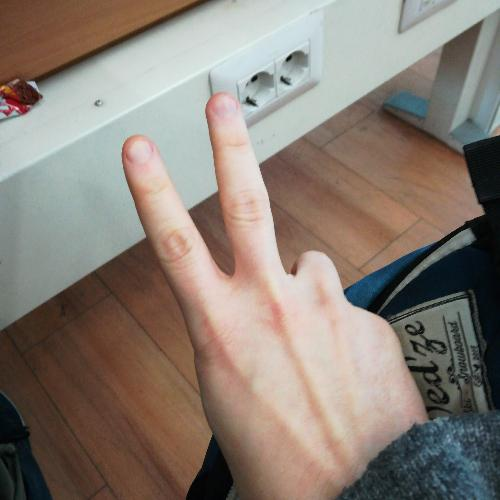scissors: (118, 86, 430, 478)
